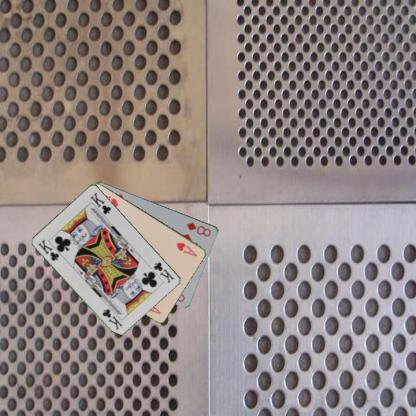8d: (184, 219, 213, 238)
Ah: (174, 240, 198, 258)
Kc: (151, 259, 176, 285), (36, 237, 61, 262)
